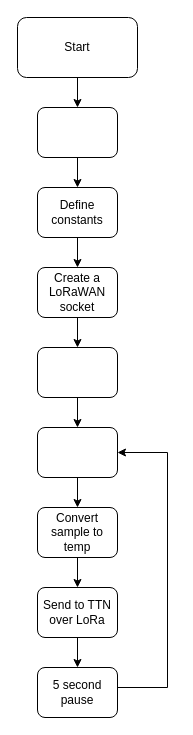
Some shapes in this 193 by 735 pixel diagram are drawn without their labels. The shapes that lost their labels are listed below. From the top down, each one's centre as x and y in pixels, then its label:
the point at 77,132: Import dependencies
the point at 77,372: Setup ADC
the point at 77,452: Sample ADC
